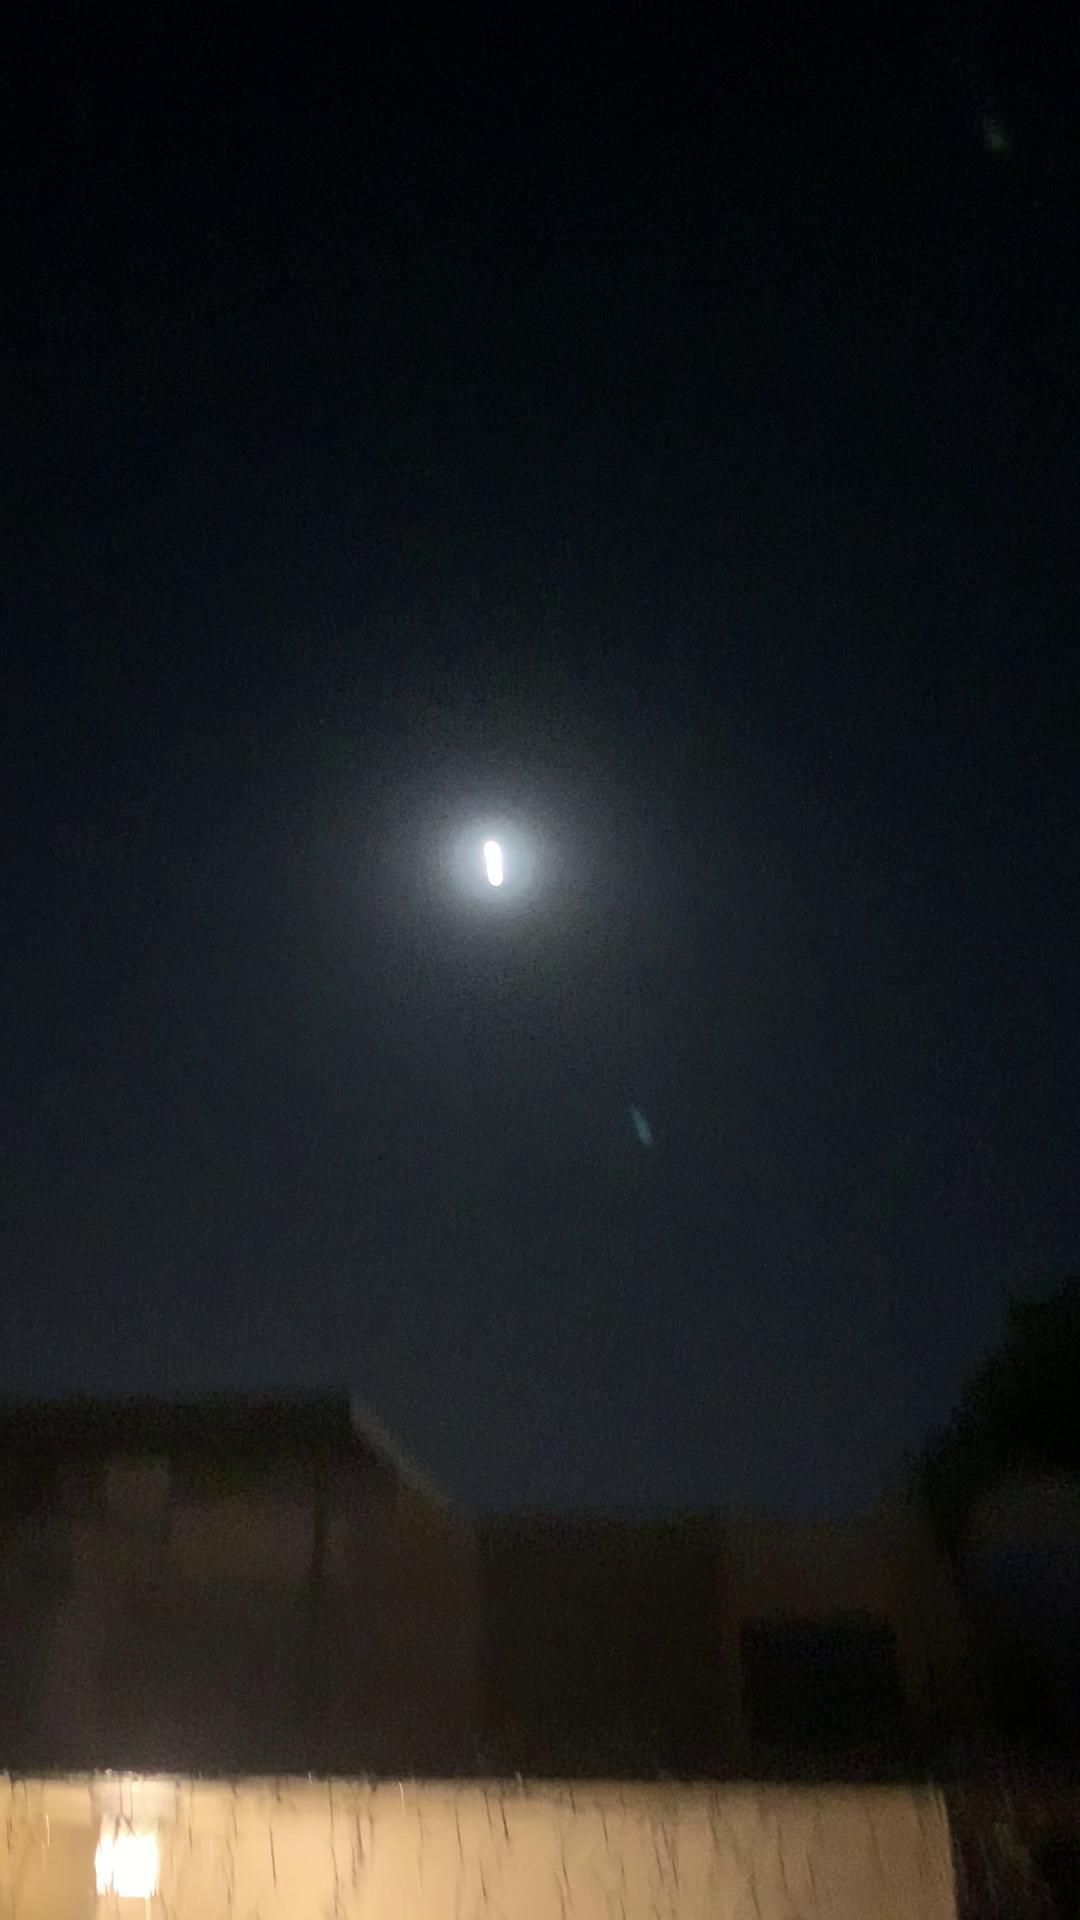moon: (456, 808, 543, 887)
